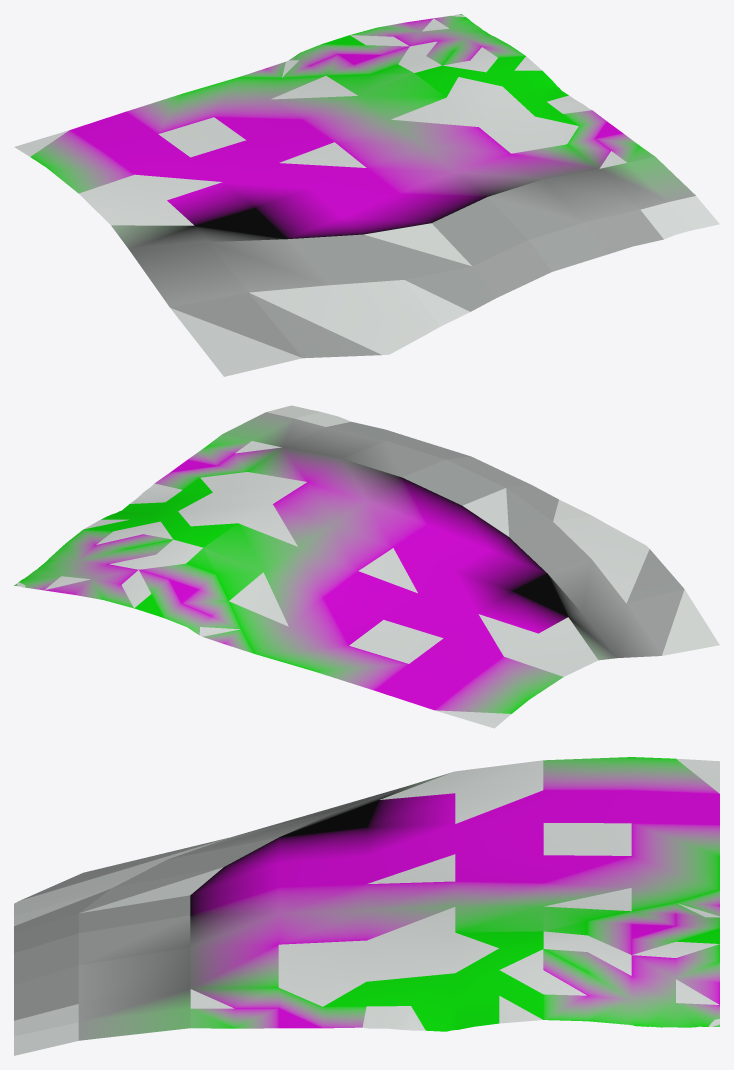
The picture shows the model from 3 angles, top to bottom: view 1: azimuth 30°, elevation 25°; view 2: azimuth 150°, elevation 25°; view 3: azimuth 270°, elevation 25°; orthographic projection. The views are drawn at different scales.
Parts seen in each view (by area): view 1: G:\FFXIV-MapTools\exports\f1f1\bg\ffxiv\fst_f1\fld\f1f1\bgpl (×5); view 2: G:\FFXIV-MapTools\exports\f1f1\bg\ffxiv\fst_f1\fld\f1f1\bgpl (×6); view 3: G:\FFXIV-MapTools\exports\f1f1\bg\ffxiv\fst_f1\fld\f1f1\bgpl (×6).
Part boxes in pixels (box(x1,y1,x2,y2)): G:\FFXIV-MapTools\exports\f1f1\bg\ffxiv\fst_f1\fld\f1f1\bgpl (×5): box(14, 16, 719, 376); G:\FFXIV-MapTools\exports\f1f1\bg\ffxiv\fst_f1\fld\f1f1\bgpl (×6): box(17, 405, 719, 728); G:\FFXIV-MapTools\exports\f1f1\bg\ffxiv\fst_f1\fld\f1f1\bgpl (×6): box(14, 757, 719, 1055).
Bounding box in the file's own units: 128 × 31.88 × 128.
